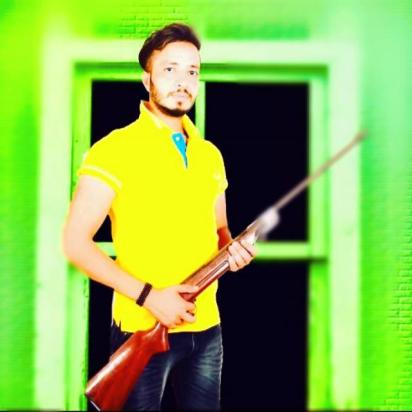Gun: (82, 127, 372, 411)
